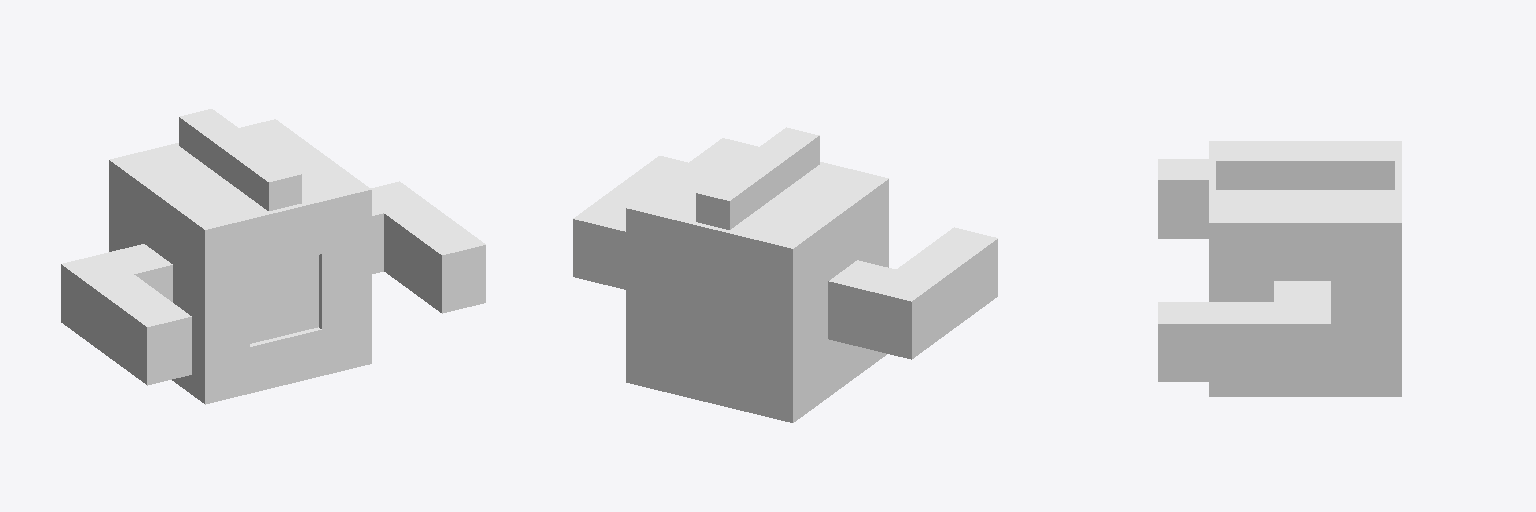
File: enemy_Special.obj
3 renders of one model, left to right at view 1: azimuth 30°, elevation 25°; view 2: azimuth 150°, elevation 25°; view 3: azimuth 270°, elevation 25°, orthographic.
Visible parts, largest first — view 1: object 1; view 2: object 1; view 3: object 1.
Part boxes in pixels (bbox=[...]): object 1: bbox=[61, 109, 485, 404]; object 1: bbox=[573, 127, 997, 422]; object 1: bbox=[1158, 141, 1401, 396].
Bounding box in the file's own units: 6.1 × 3.5 × 3.8.